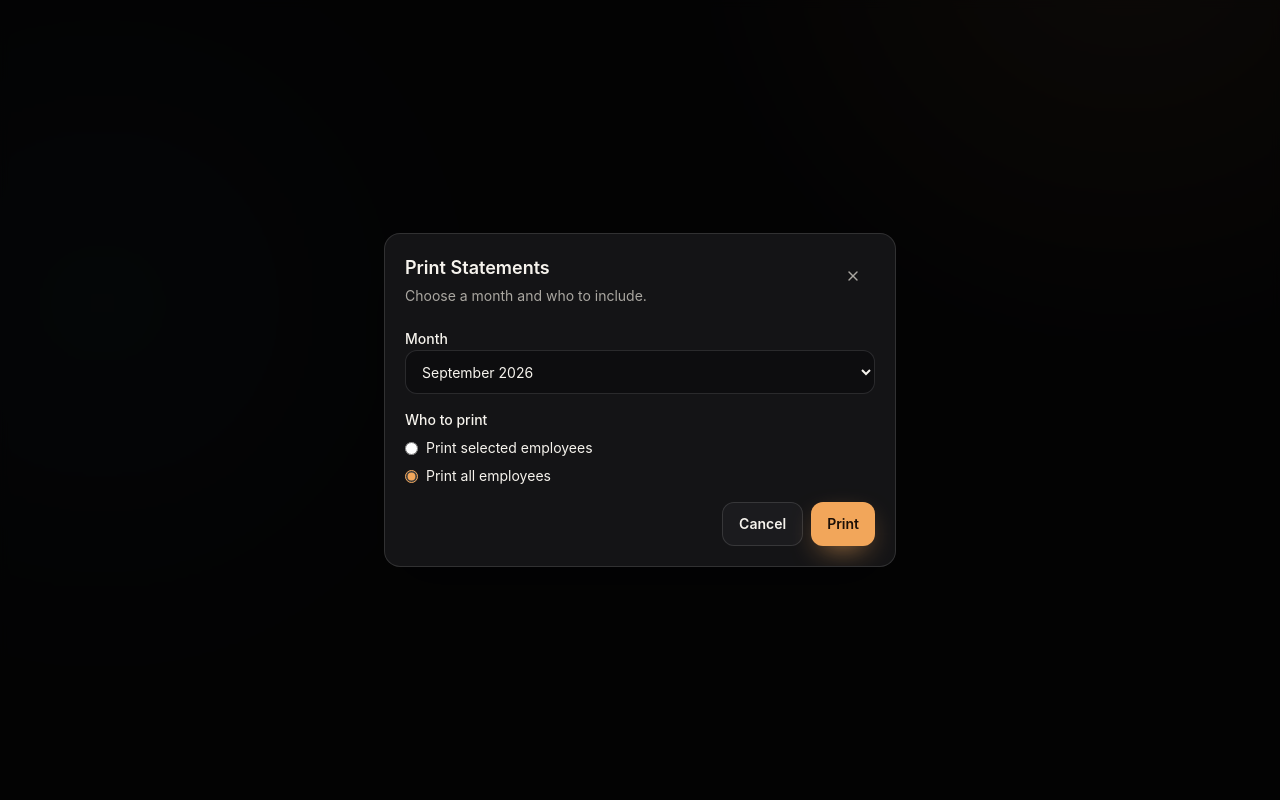
PayrollPrintDialog › shows a specific error when the chosen scope has no matching periods
Step 1. Select "August 2026" in the dropdown labelled "Month" → (640, 372), box [405, 350, 875, 394]
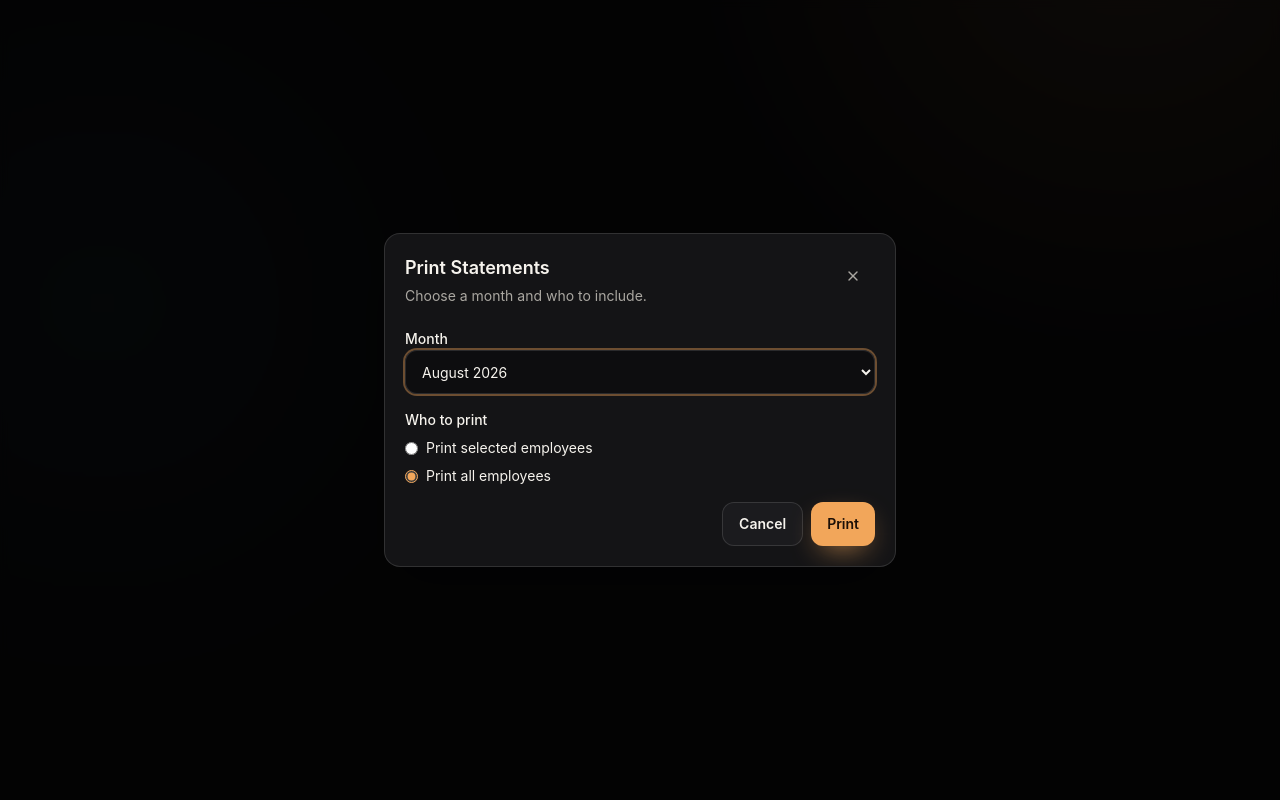
Step 2. Click the radio button labelled "Print selected employees" → (412, 448), box [405, 442, 418, 454]
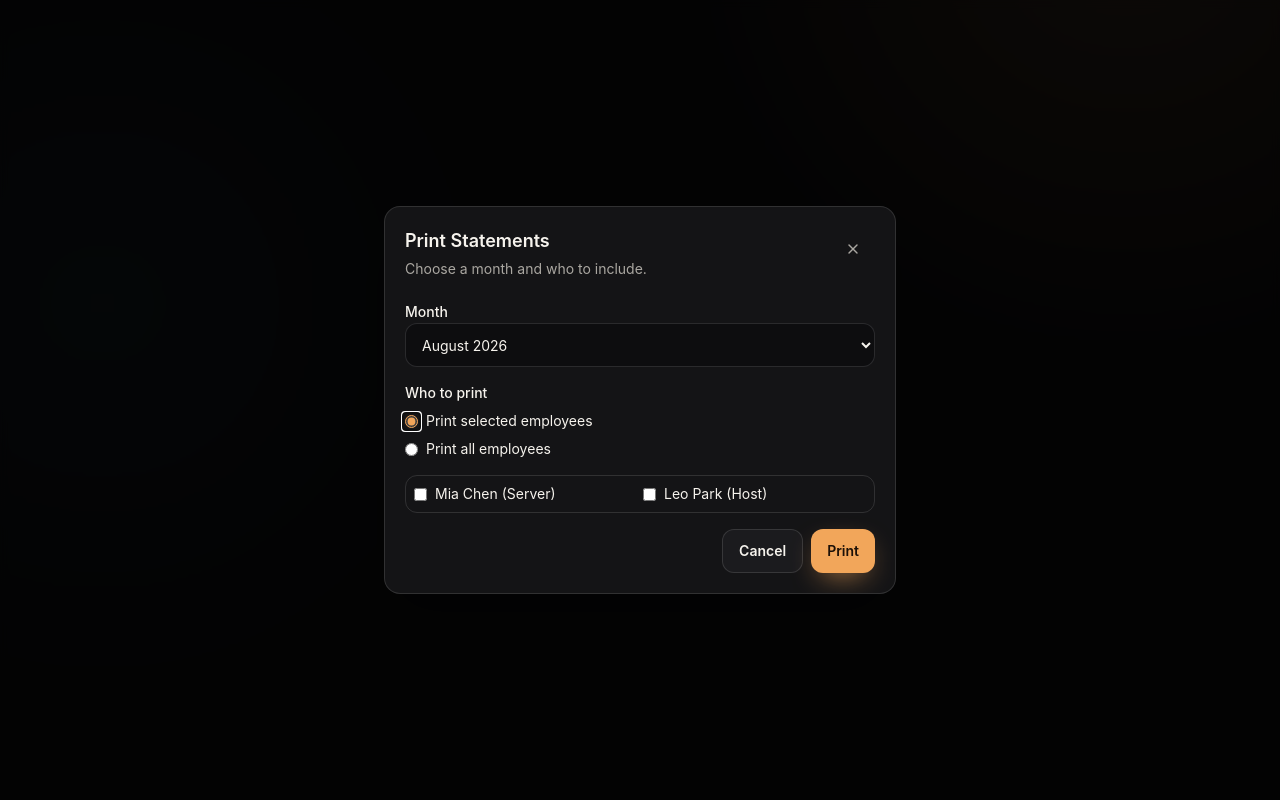
Leo has no August period at all.
Step 3. Click the checkbox labelled "Leo Park (Host)" → (650, 494), box [643, 488, 656, 500]
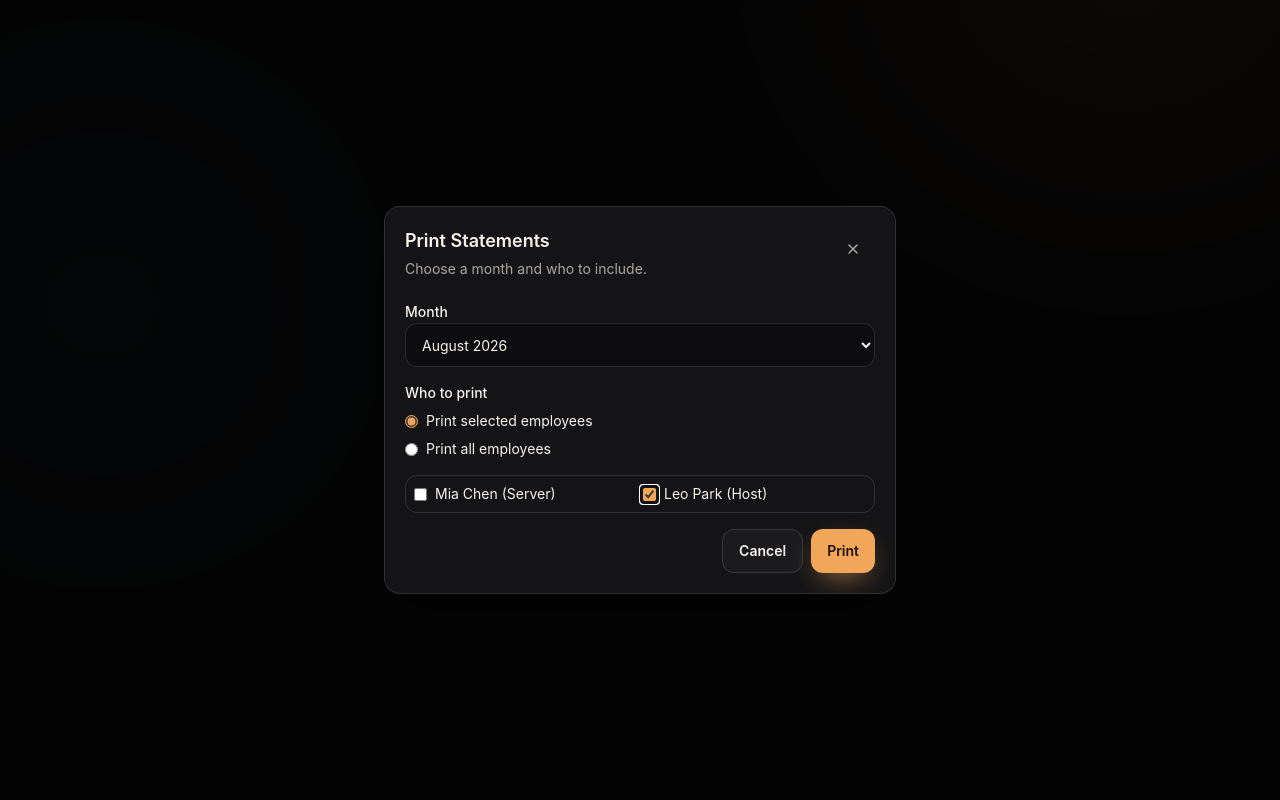
Step 4. Click the button "Print" → (843, 551), box [811, 529, 875, 573]
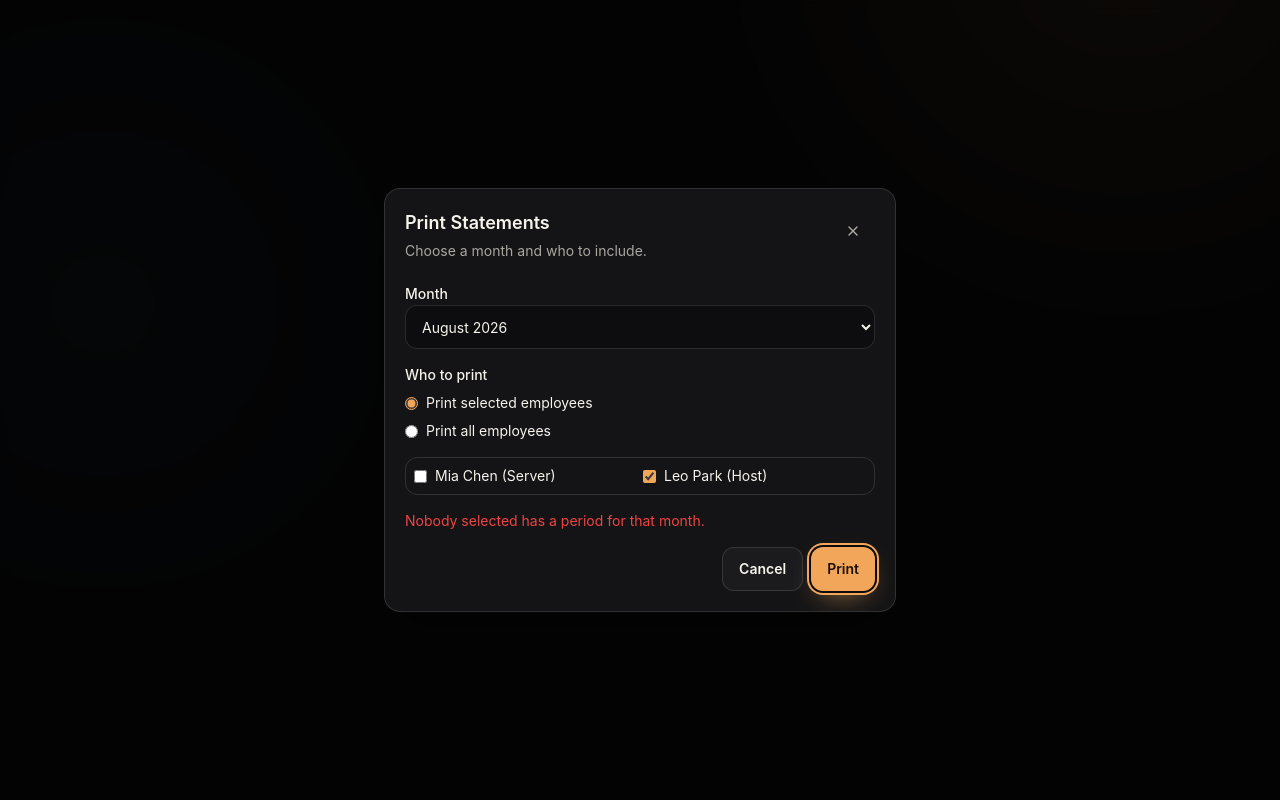
Expected: the text "Nobody selected has a period for that month." is shown, [405, 512, 705, 529]
